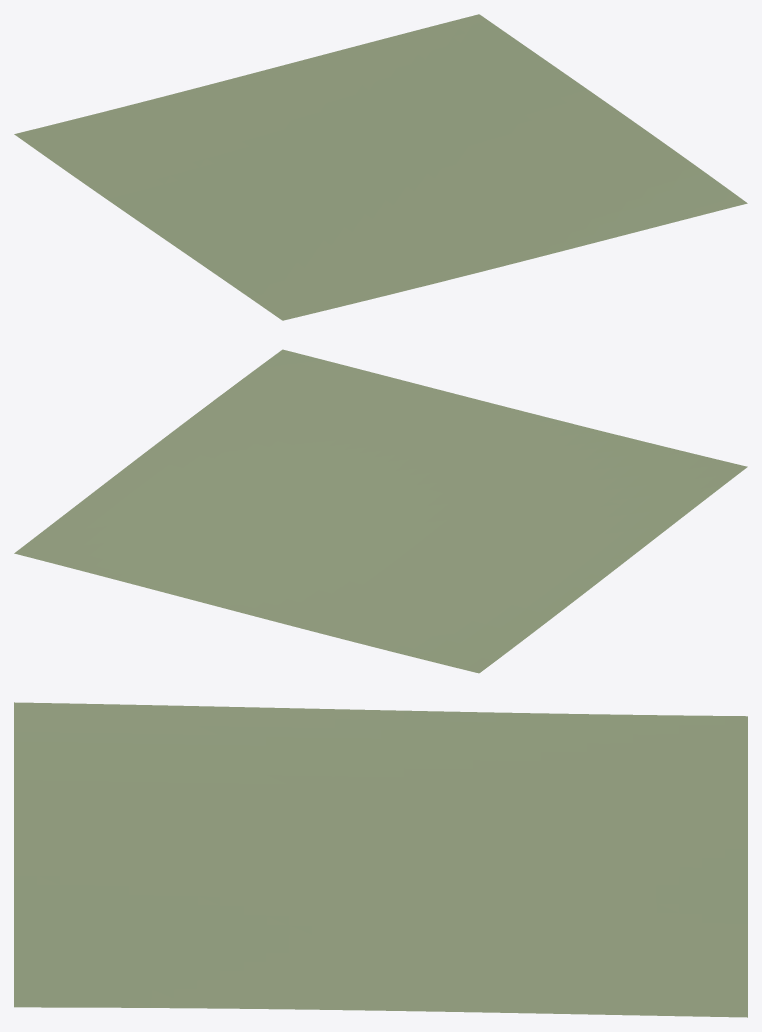
The model's file is expanse-18-26.glb.
3 renders of one model, top to bottom at view 1: azimuth 30°, elevation 25°; view 2: azimuth 150°, elevation 25°; view 3: azimuth 270°, elevation 25°, orthographic. The views are drawn at different scales.
Parts seen in each view (by area): view 1: expanse-18-26; view 2: expanse-18-26; view 3: expanse-18-26.
Boxes of the visible parts, left/top/right/bottom form: expanse-18-26: left=14, top=14, right=747, bottom=320; expanse-18-26: left=14, top=349, right=747, bottom=673; expanse-18-26: left=14, top=702, right=747, bottom=1017.
Bounding box in the file's own units: 256 × 7.29 × 256.
